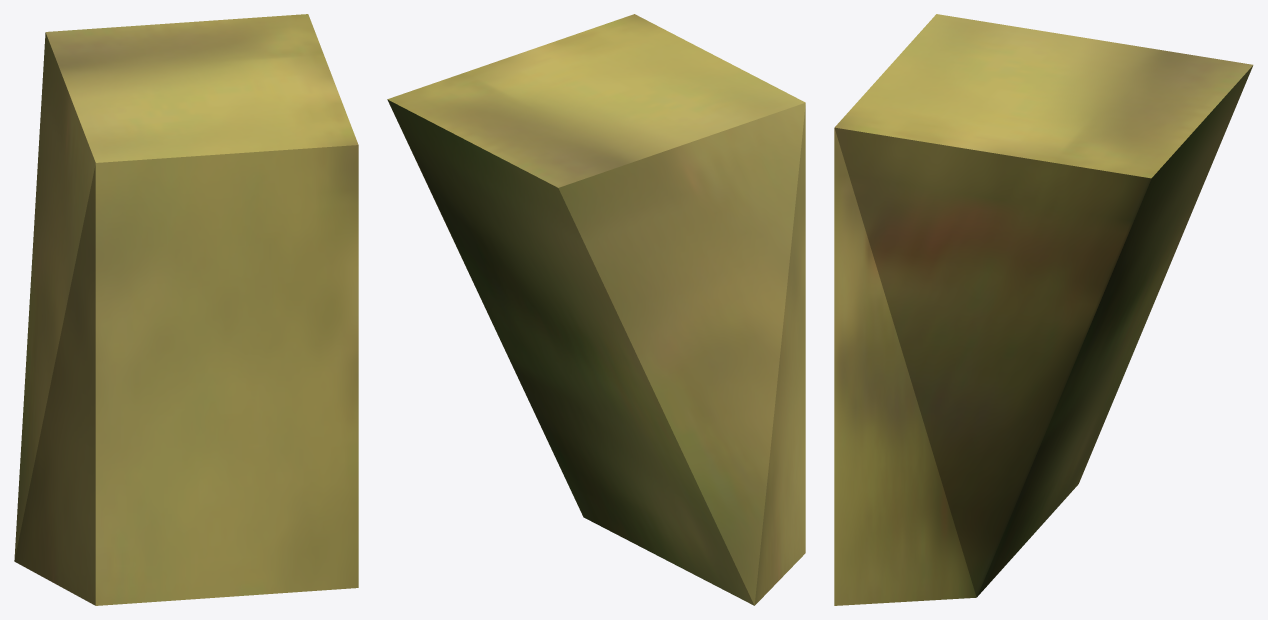
File: H1_F1_ColSup2.gltf
3 views of the same model, side by side, from view 1: azimuth 30°, elevation 25°; view 2: azimuth 150°, elevation 25°; view 3: azimuth 270°, elevation 25° (orthographic). The views are drawn at different scales.
Visible parts, largest first — view 1: H1_F1_ColSup2; view 2: H1_F1_ColSup2; view 3: H1_F1_ColSup2.
Part boxes in pixels (x1=…): H1_F1_ColSup2: x1=14, y1=14, x2=358, y2=605; H1_F1_ColSup2: x1=387, y1=14, x2=805, y2=605; H1_F1_ColSup2: x1=834, y1=14, x2=1253, y2=605.
Size of the model in its own units: 1.2 by 1.55 by 1.23.
1 material, 1 textured.
